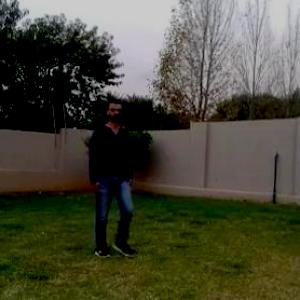follow: (94, 99, 129, 241)
